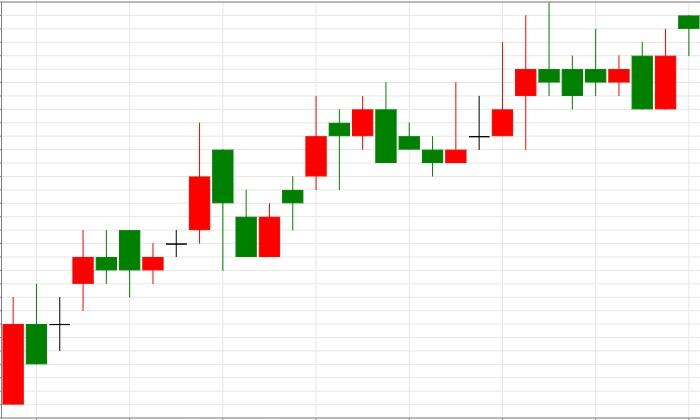bearish_engulfing_fall: (235, 82, 396, 257)
